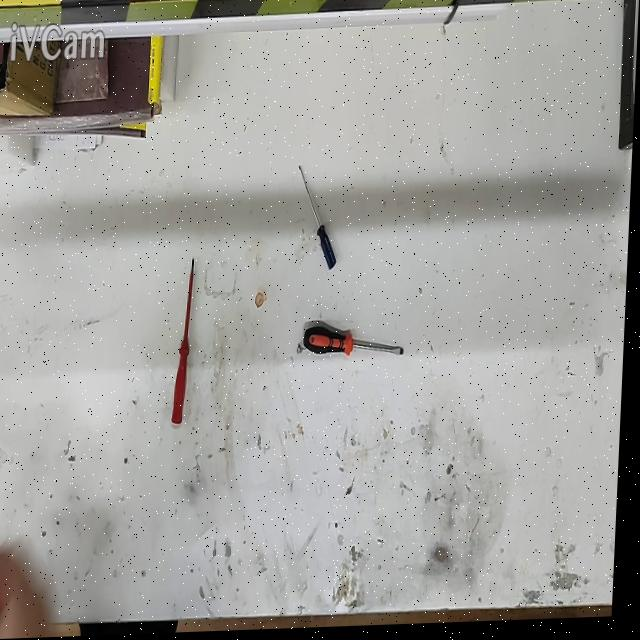Screwdriver: (300, 169, 339, 272), (176, 263, 196, 424), (307, 327, 407, 359)
